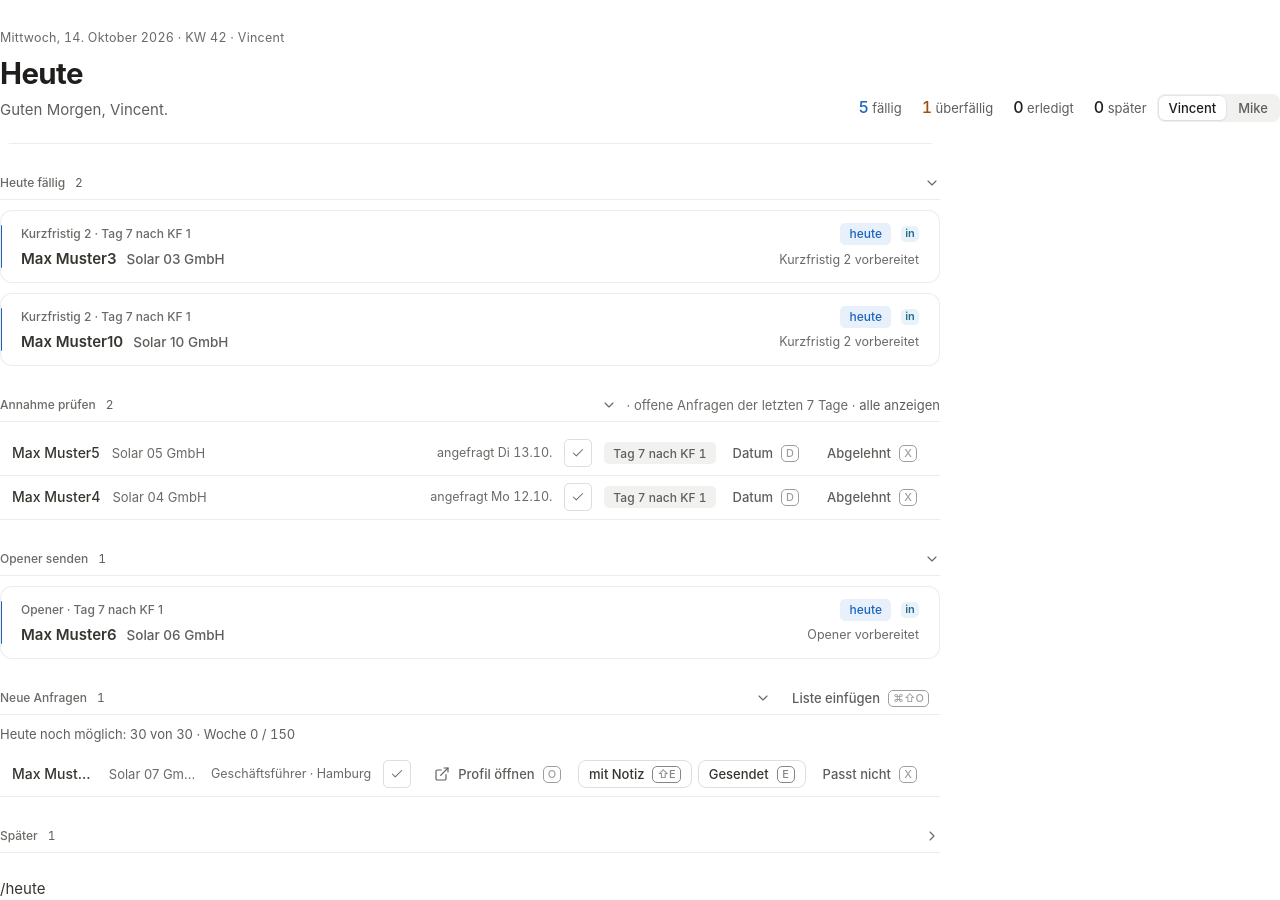
HeuteSeite › Annahme prüfen: D öffnet „Angenommen am“ (Datum der Annahme)
(page scrolled)
Click the text "Max Muster4" at (56, 497), box [12,488,100,506]
(page scrolled)
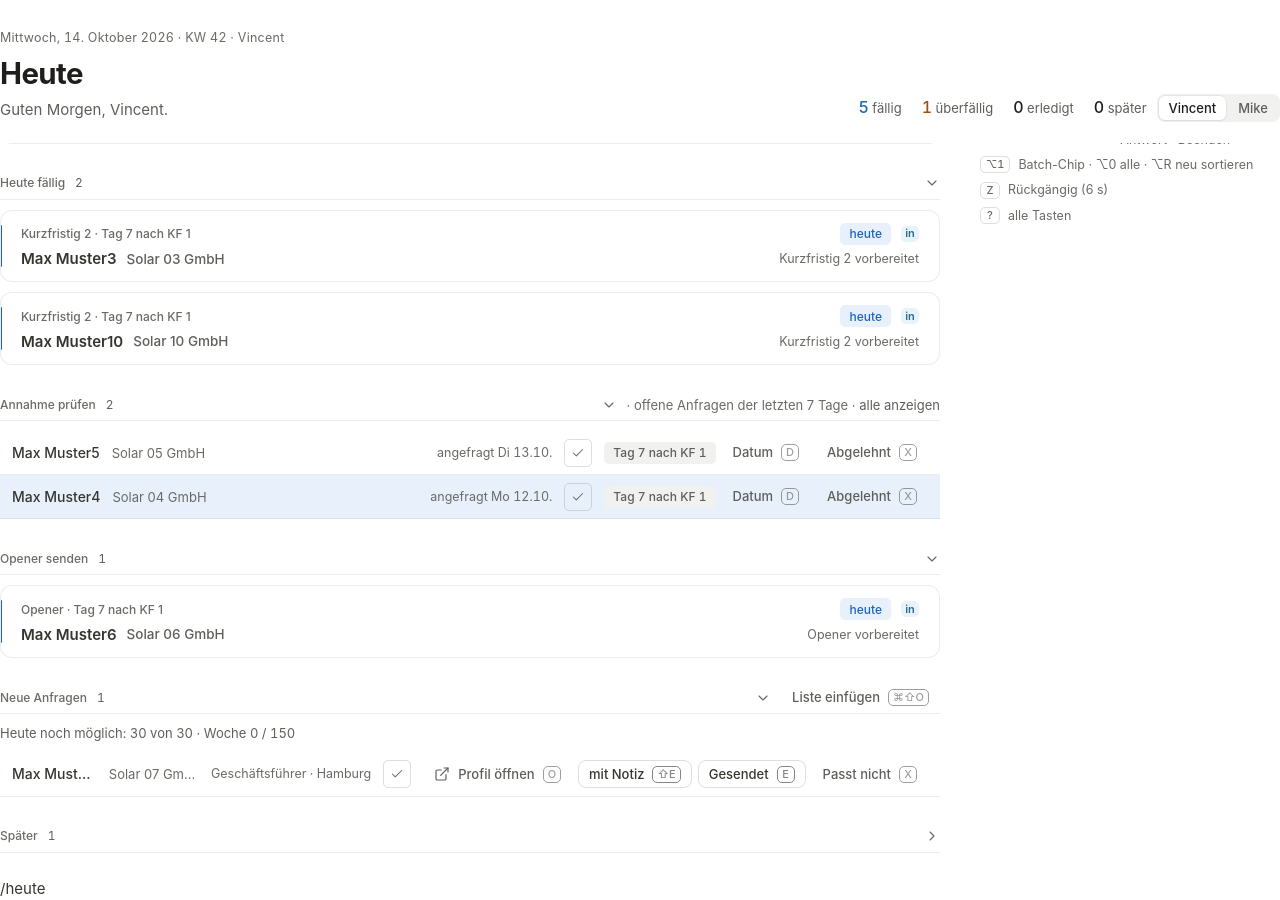
Press d
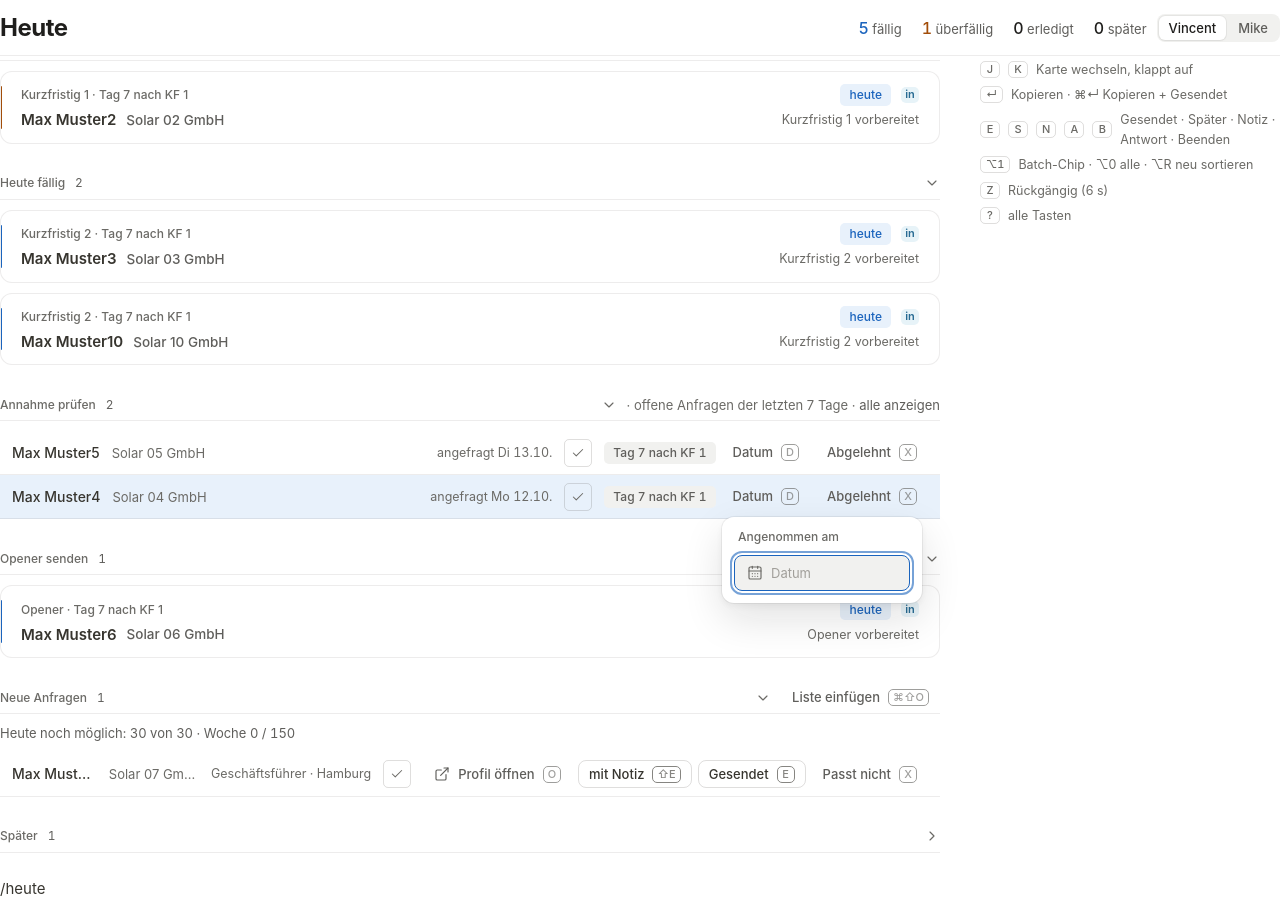
Result: the text "Angenommen am" is shown at [738,529,839,544]
